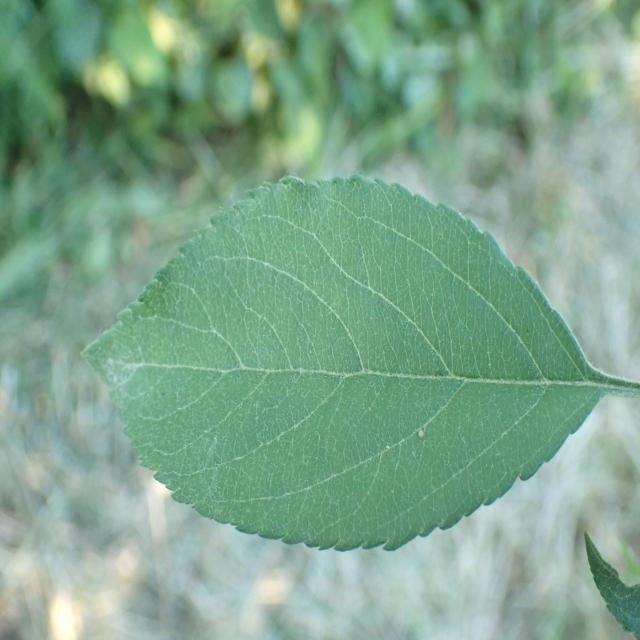healthy: (80, 173, 604, 553)
